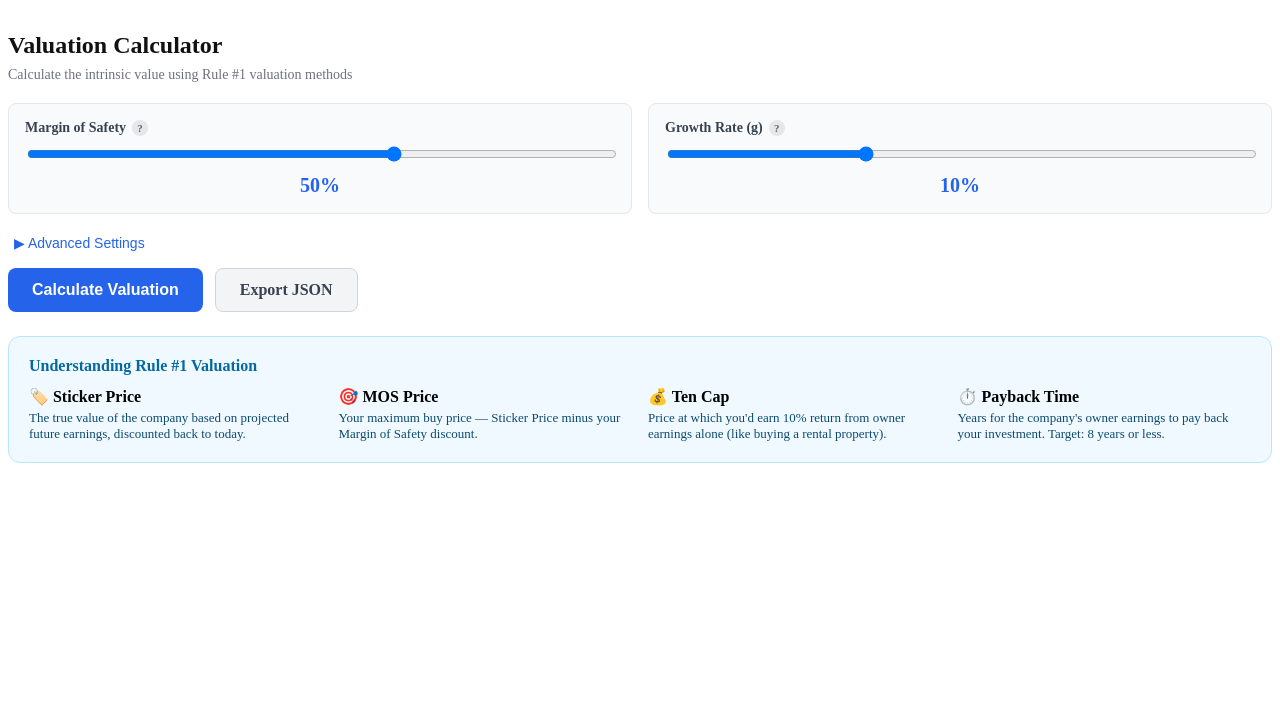
ValuationPanel › Advanced Settings › hides advanced settings when toggled again
The image size is (1280, 720).
Click the button "▶ Advanced Settings". click: x=79, y=243
box: [8,234,151,252]
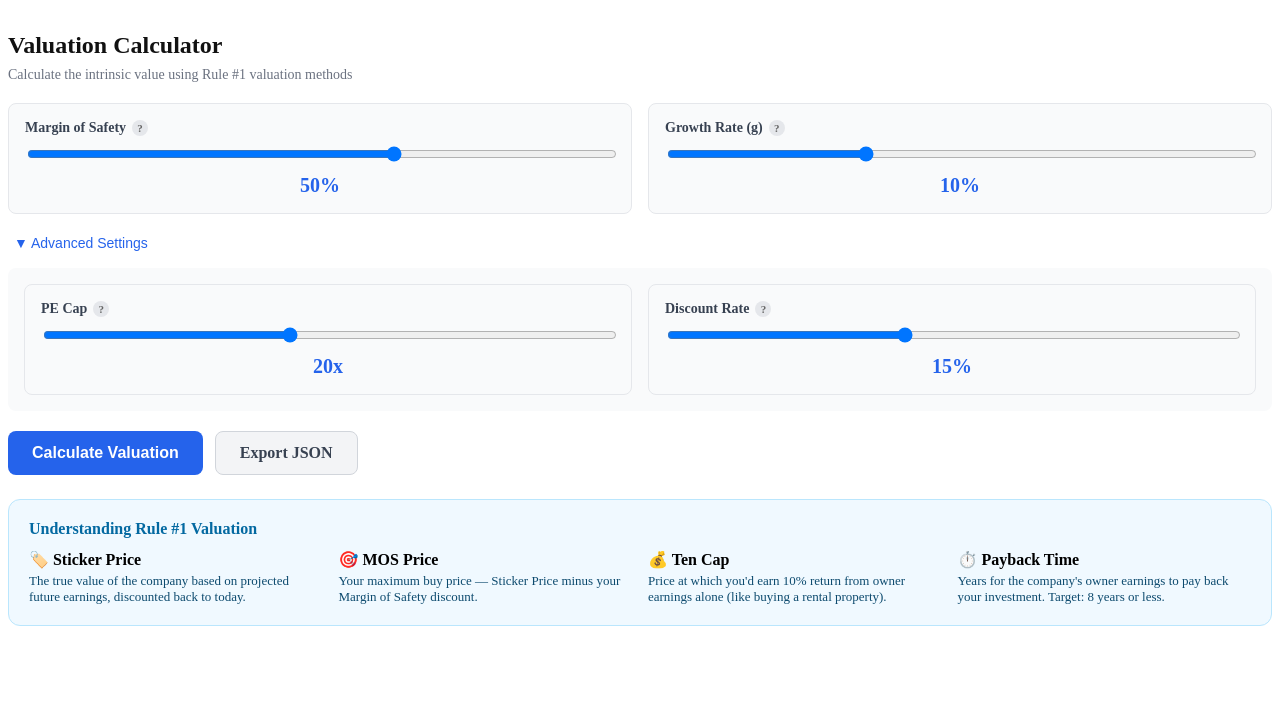
Click the button "▼ Advanced Settings". click: x=81, y=243
box: [8,234,154,252]
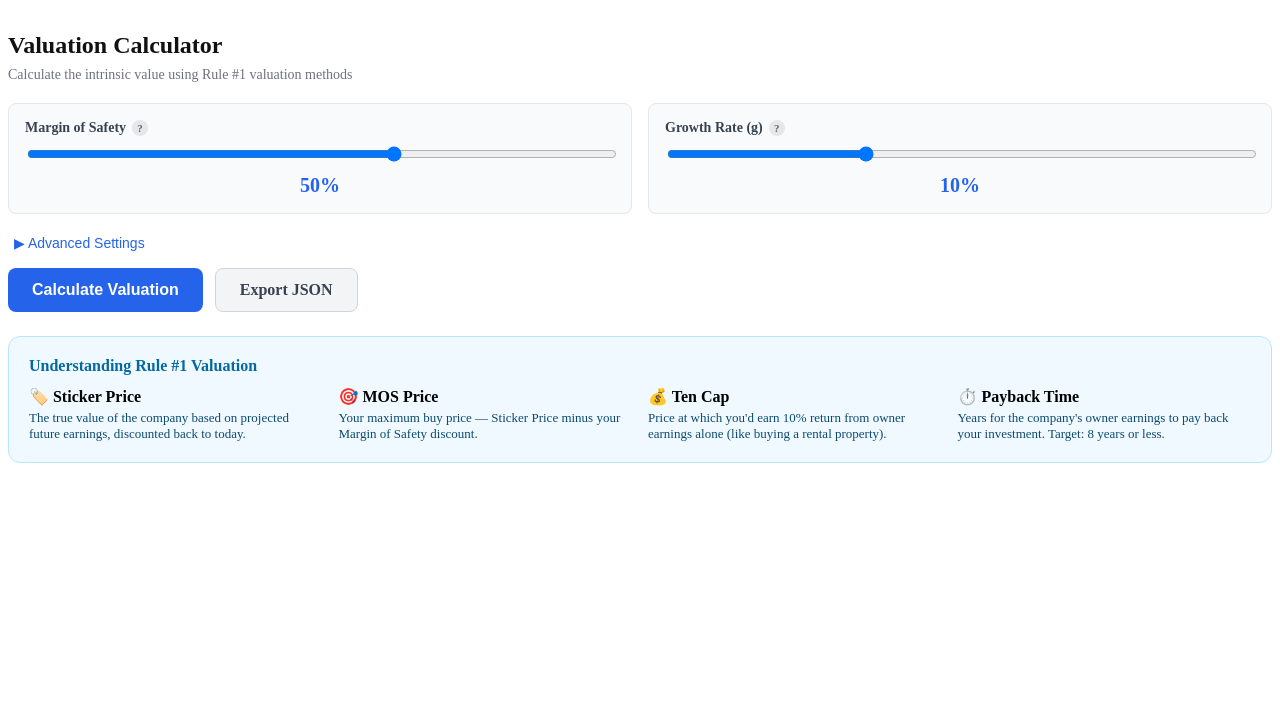
Expected: the text "PE Cap" is gone
